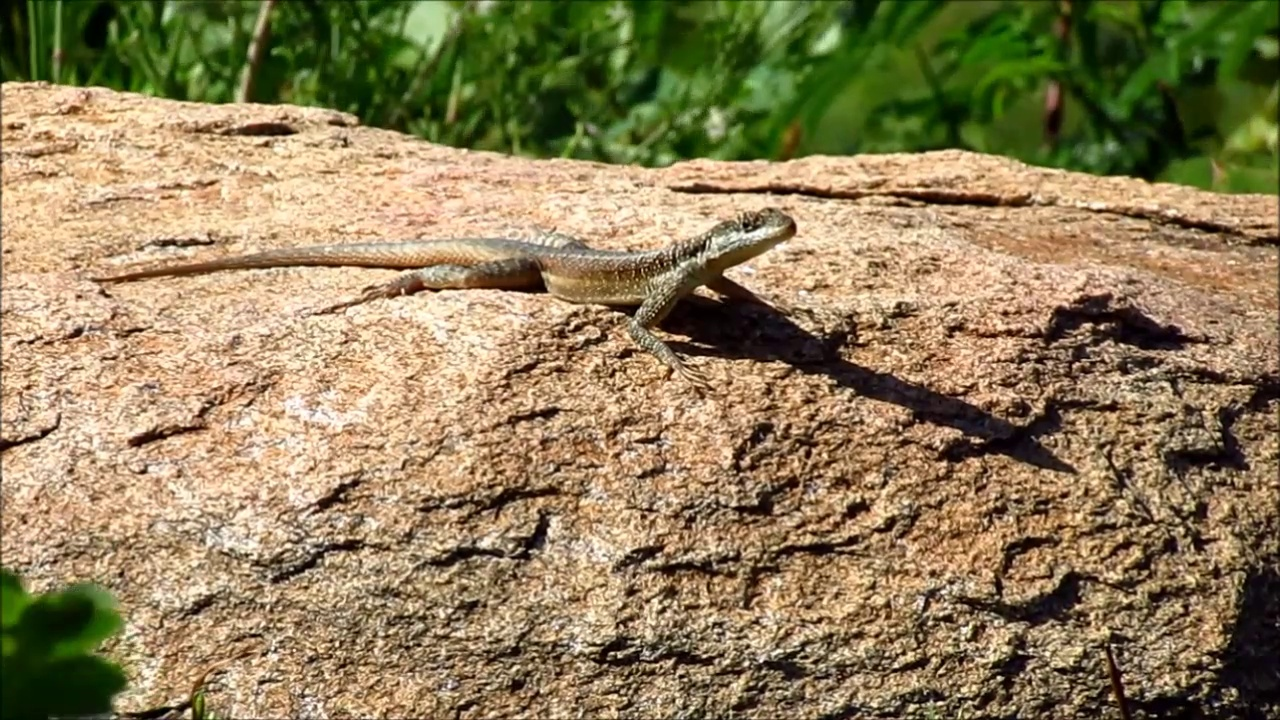body: (88, 222, 719, 393)
head: (705, 207, 797, 261)
